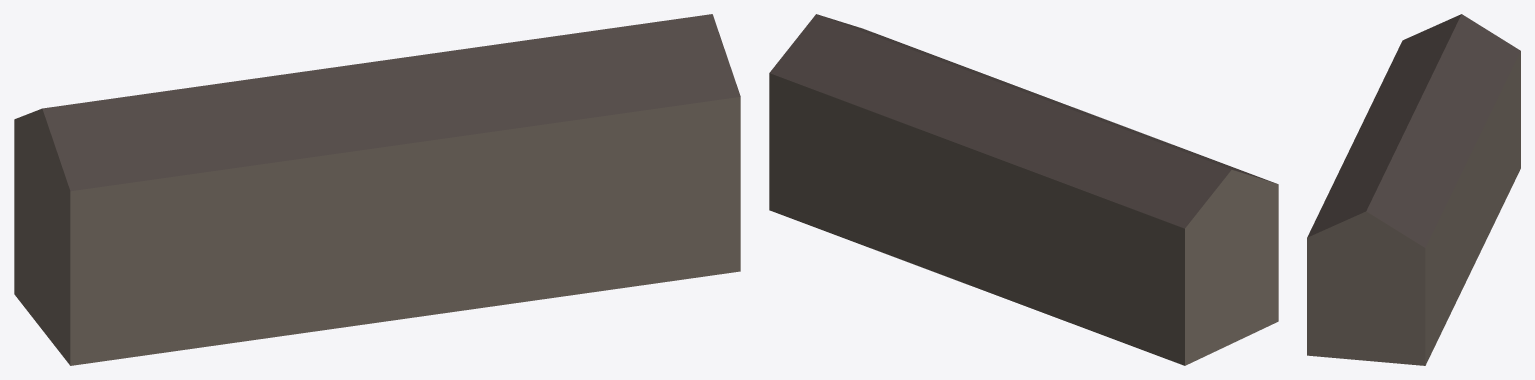
The picture shows the model from 3 angles, left to right: view 1: azimuth 30°, elevation 25°; view 2: azimuth 150°, elevation 25°; view 3: azimuth 270°, elevation 25°; orthographic projection. The views are drawn at different scales.
Parts seen in each view (by area): view 1: HP-w859488878; view 2: HP-w859488878; view 3: HP-w859488878.
Part boxes in pixels (x1=…): HP-w859488878: x1=14, y1=14, x2=740, y2=365; HP-w859488878: x1=769, y1=14, x2=1278, y2=365; HP-w859488878: x1=1307, y1=14, x2=1520, y2=365.
Size of the model in its own units: 34.03 by 11.42 by 14.8.
